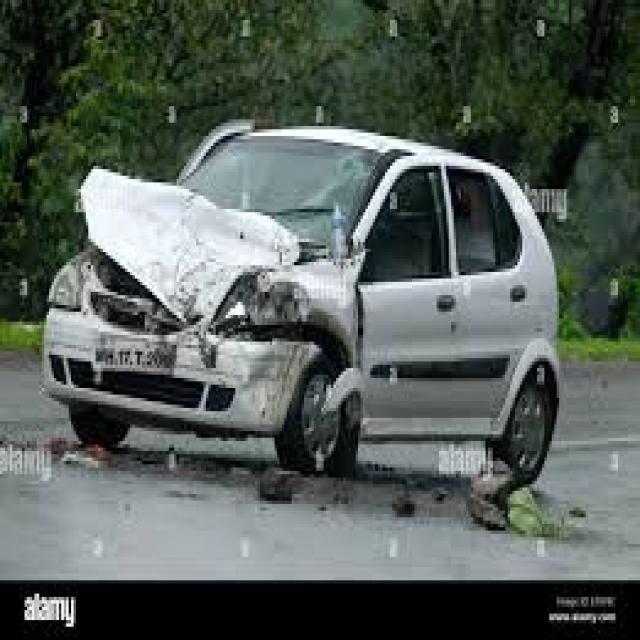severe: (8, 106, 398, 472)
